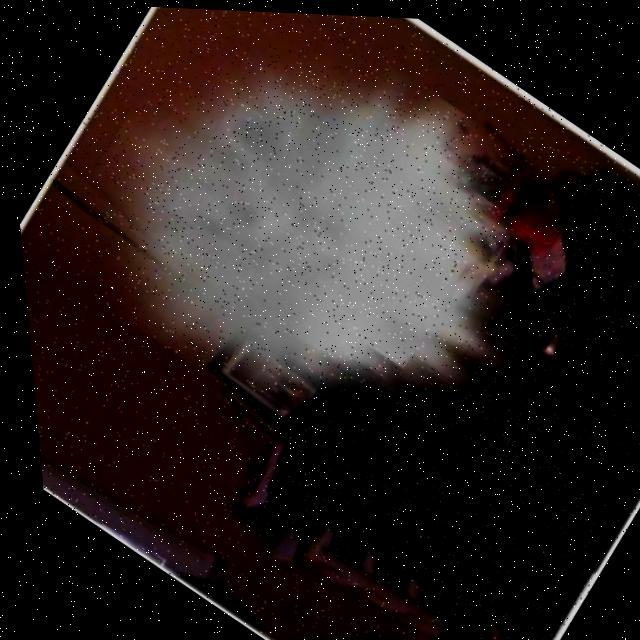Smoke: (51, 2, 620, 505)
